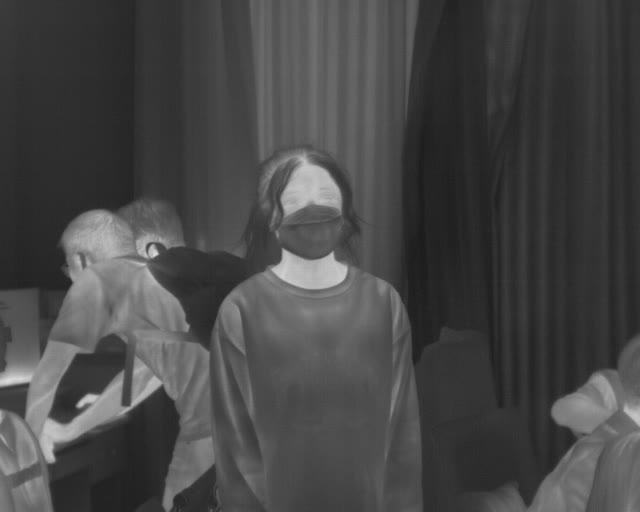face: (255, 145, 353, 260)
